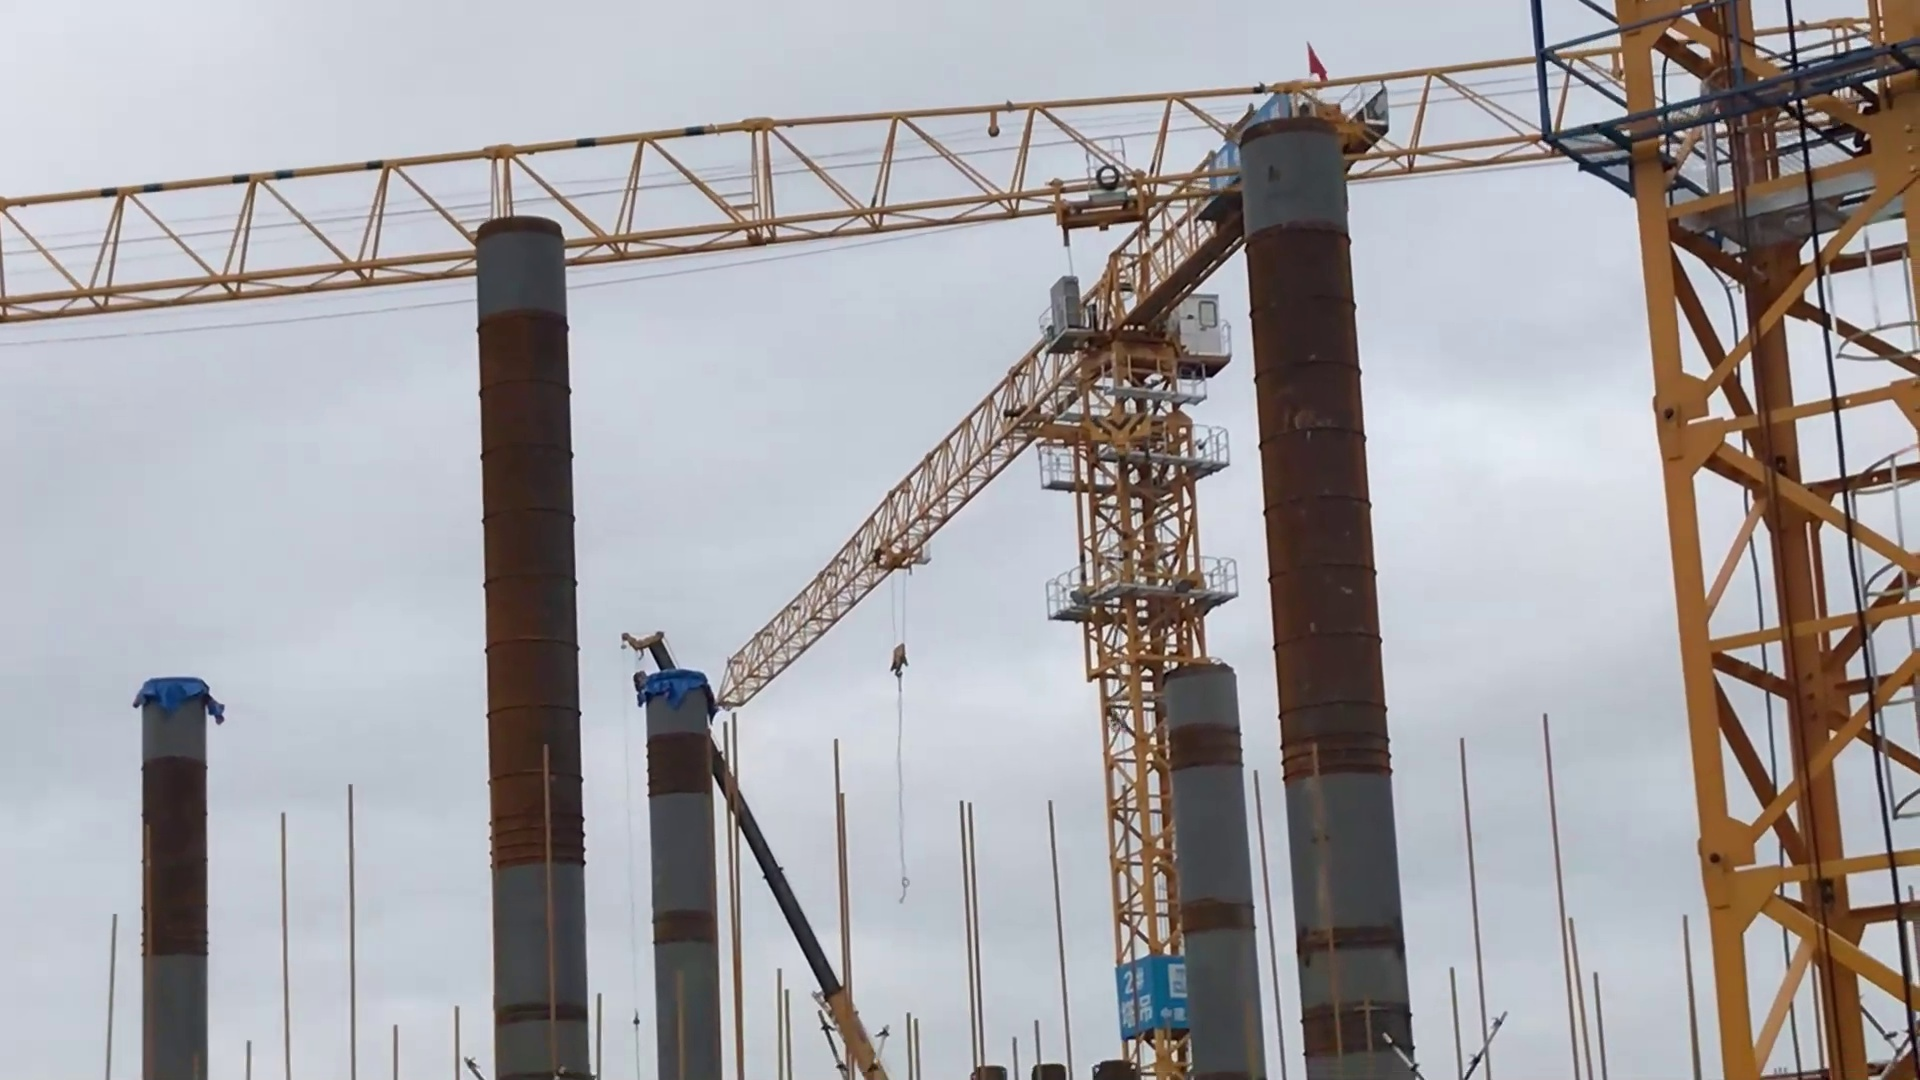hook: (882, 638, 936, 692)
